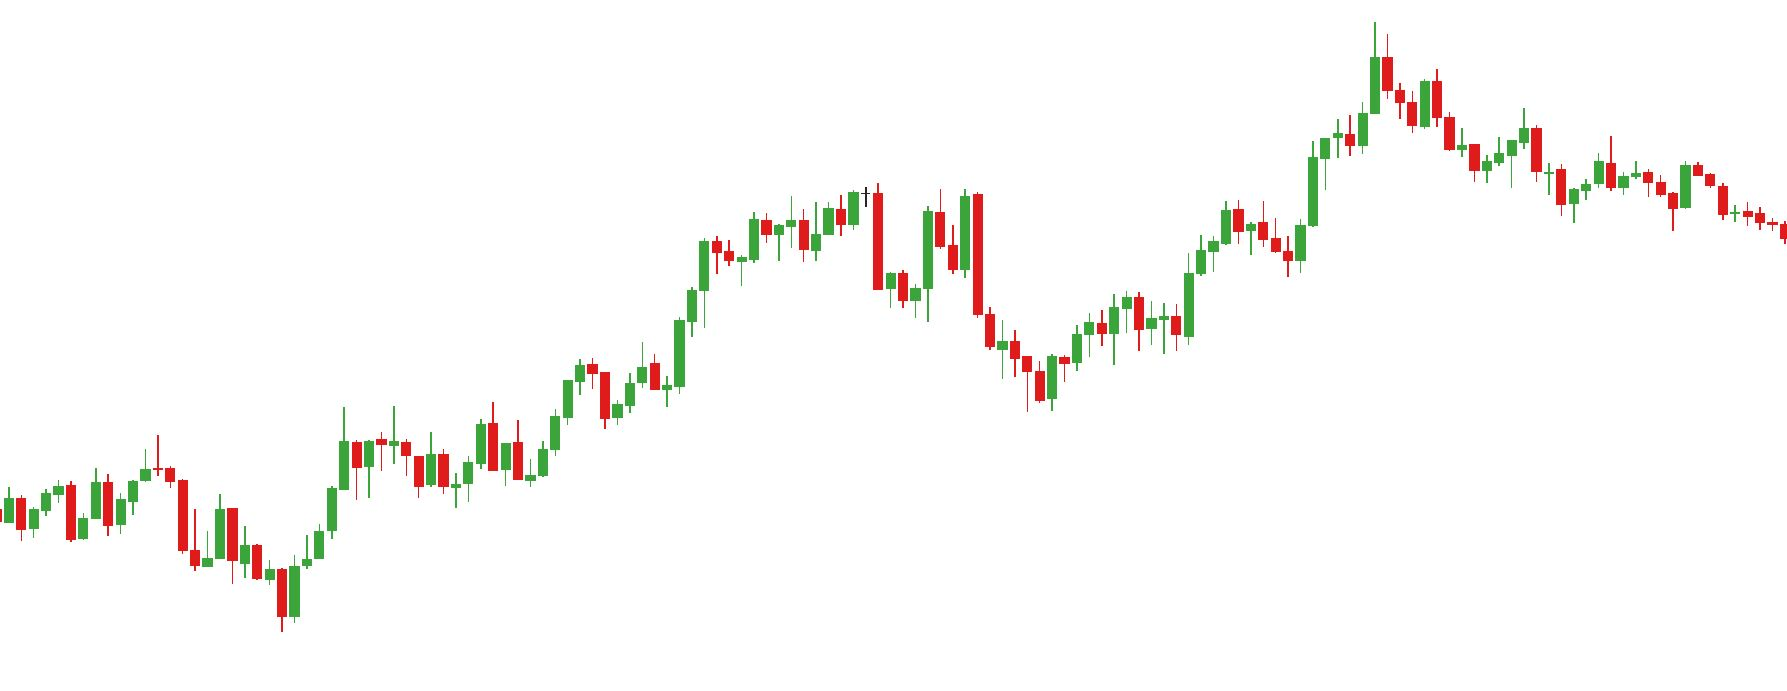buy: (1205, 225, 1309, 278)
